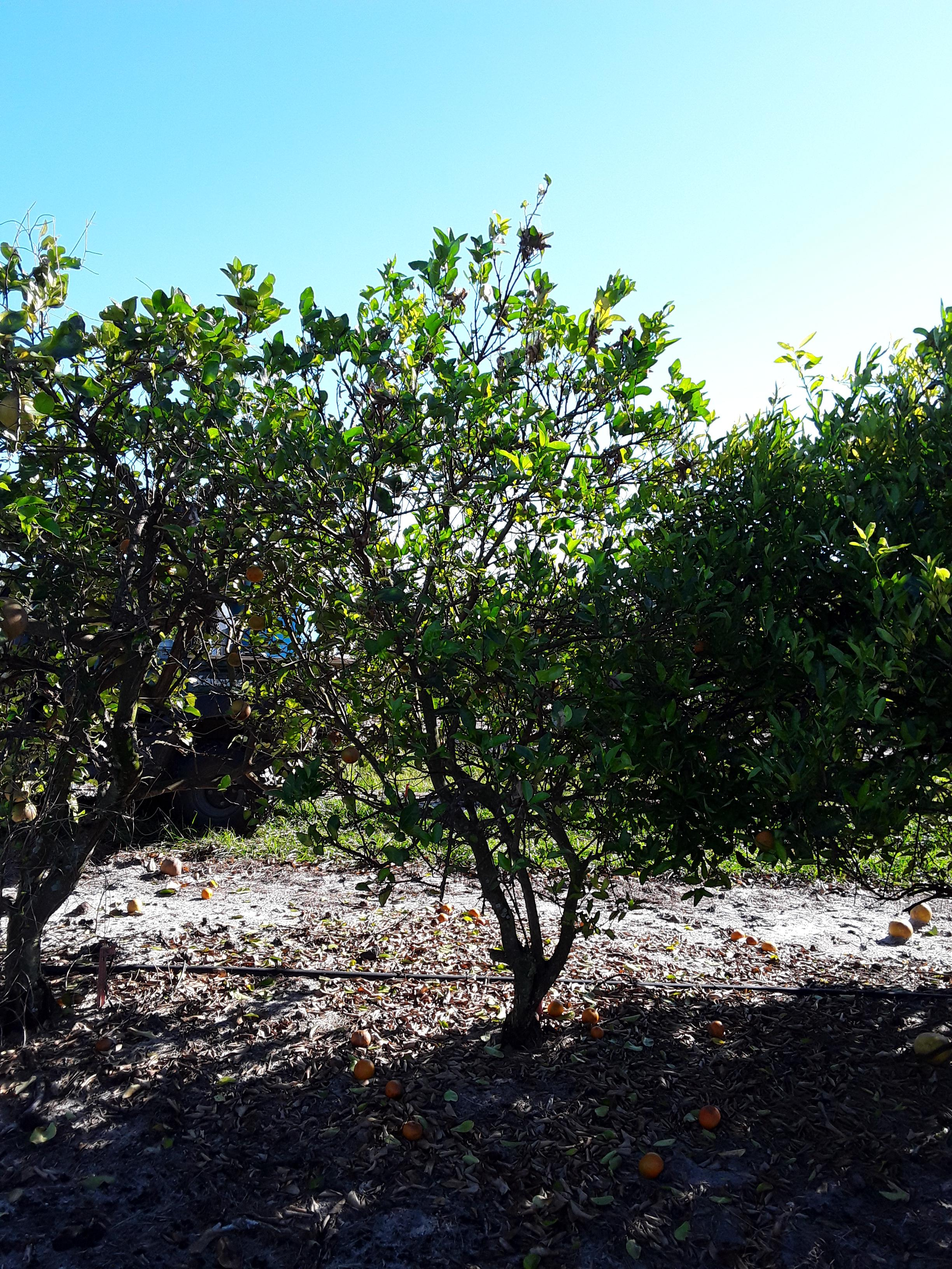fruit_on_ground: (0, 391, 43, 433), (0, 596, 29, 644), (50, 322, 83, 360), (9, 802, 44, 824), (227, 699, 257, 721), (3, 781, 32, 801), (754, 830, 778, 854), (688, 639, 715, 659), (340, 746, 362, 766), (269, 555, 289, 575), (247, 614, 266, 631), (246, 566, 266, 582), (227, 651, 245, 668), (327, 729, 345, 745), (119, 539, 135, 553)
fruit_on_tree: (913, 1033, 952, 1067), (636, 1149, 668, 1186), (697, 1103, 726, 1137), (92, 1033, 121, 1056), (401, 1118, 425, 1145), (352, 1058, 377, 1083), (889, 918, 914, 942), (910, 903, 934, 927), (707, 1019, 729, 1043), (349, 1028, 371, 1052), (381, 1082, 403, 1106), (161, 856, 183, 879), (125, 897, 144, 919), (547, 999, 565, 1020), (591, 1025, 607, 1041), (582, 1008, 599, 1023), (200, 885, 215, 901), (730, 930, 746, 943), (467, 908, 482, 920), (761, 941, 777, 952), (579, 919, 593, 931), (746, 934, 759, 946), (440, 904, 454, 914), (436, 913, 448, 923)
